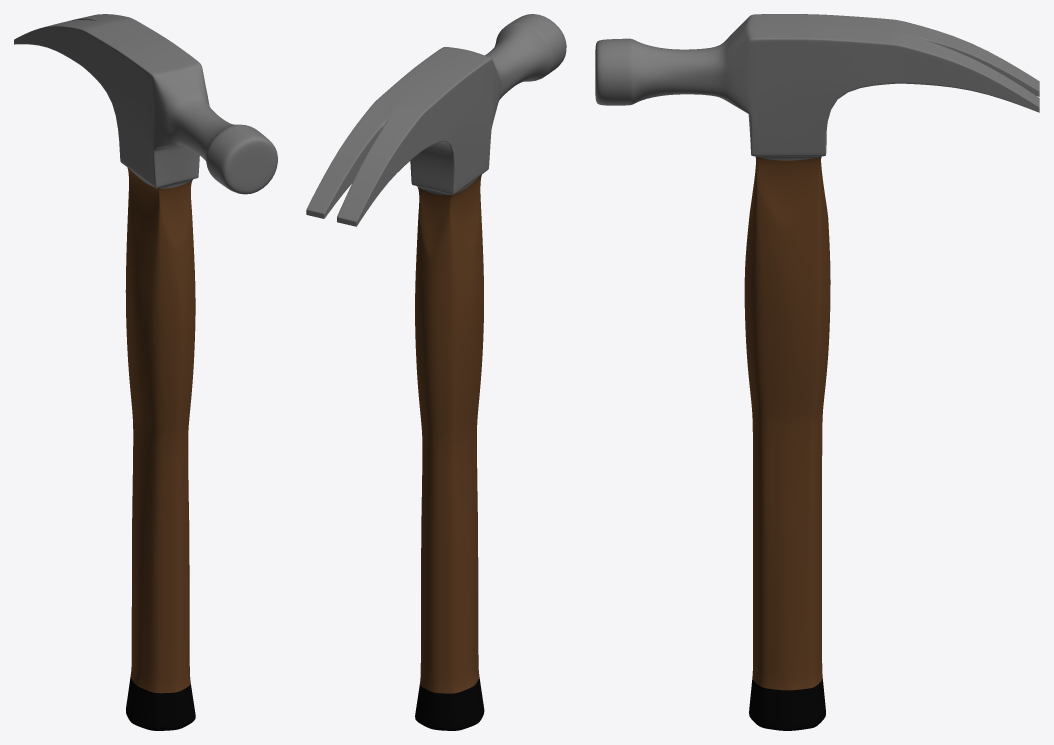
The model's file is Hammer.fbx.
3 renders of one model, left to right at view 1: azimuth 30°, elevation 25°; view 2: azimuth 150°, elevation 25°; view 3: azimuth 270°, elevation 25°, orthographic. The views are drawn at different scales.
Visible parts, largest first — view 1: Hammer; view 2: Hammer; view 3: Hammer.
Part boxes in pixels (x1,y1,x2,y2): Hammer: (14, 14, 277, 730); Hammer: (306, 14, 566, 730); Hammer: (595, 14, 1039, 730).
Bounding box in the file's own units: 2.88 × 31.48 × 18.25.
